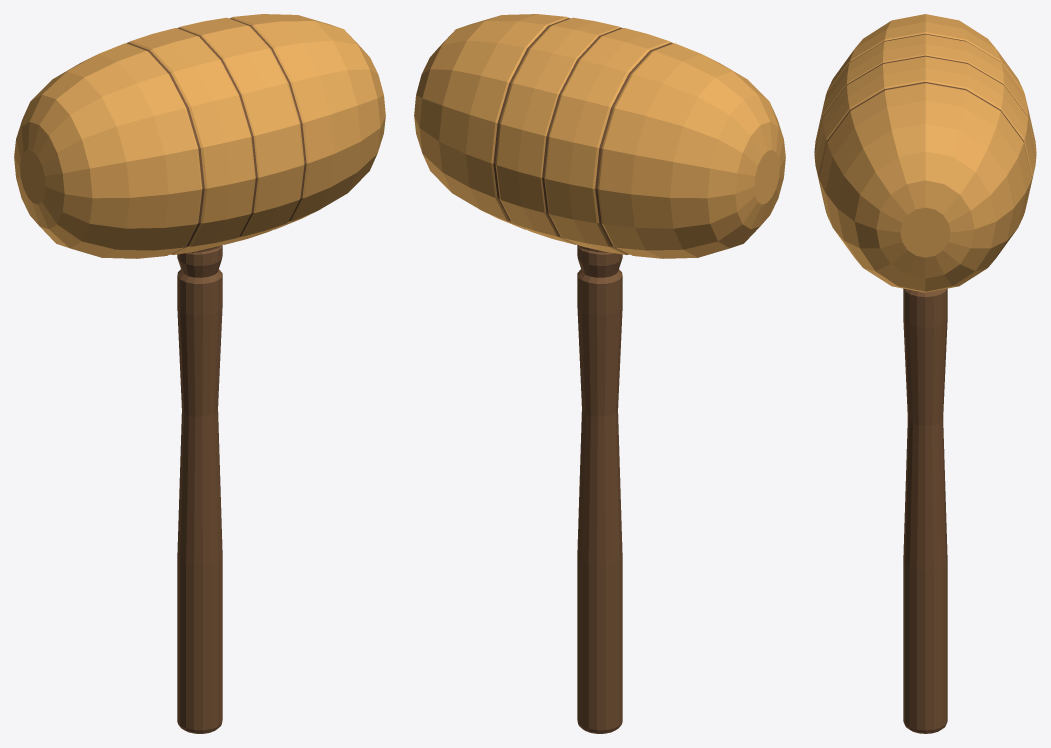
The model's file is pemukul-saron.fbx.
The picture shows the model from 3 angles, left to right: view 1: azimuth 30°, elevation 25°; view 2: azimuth 150°, elevation 25°; view 3: azimuth 270°, elevation 25°; orthographic projection. The views are drawn at different scales.
Parts seen in each view (by area): view 1: pemukul-saron.001, pemukul-saron; view 2: pemukul-saron.001, pemukul-saron; view 3: pemukul-saron.001, pemukul-saron.
Part boxes in pixels (x1,y1,x2,y2): pemukul-saron.001: (14,14,385,258); pemukul-saron: (177,245,222,733); pemukul-saron.001: (414,14,785,258); pemukul-saron: (577,245,622,733); pemukul-saron.001: (814,14,1036,292); pemukul-saron: (903,288,947,733).
Size of the model in its own units: 16.89 by 33.35 by 10.01.
